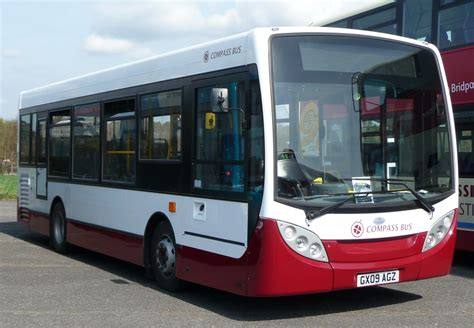bus: (17, 29, 460, 297)
